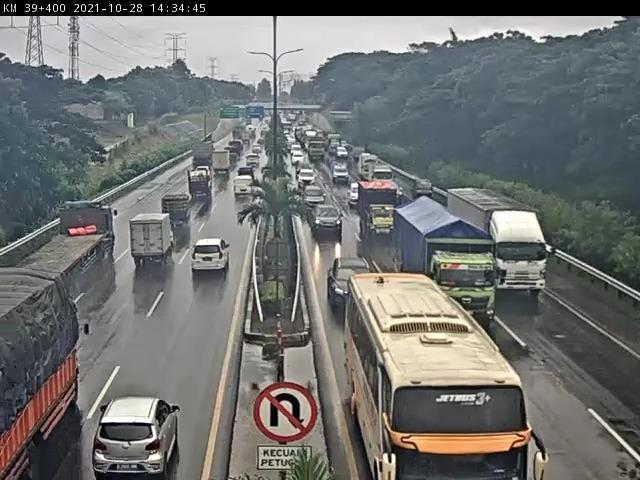bus: (333, 254, 510, 480)
car: (83, 425, 176, 480), (597, 276, 640, 351), (175, 255, 227, 307), (325, 246, 370, 293), (153, 195, 190, 241), (309, 199, 346, 239), (226, 177, 254, 213), (333, 162, 349, 181)
truck: (2, 201, 109, 341), (393, 194, 485, 313), (473, 191, 550, 292), (109, 223, 166, 287), (358, 173, 397, 233), (177, 171, 217, 211)
